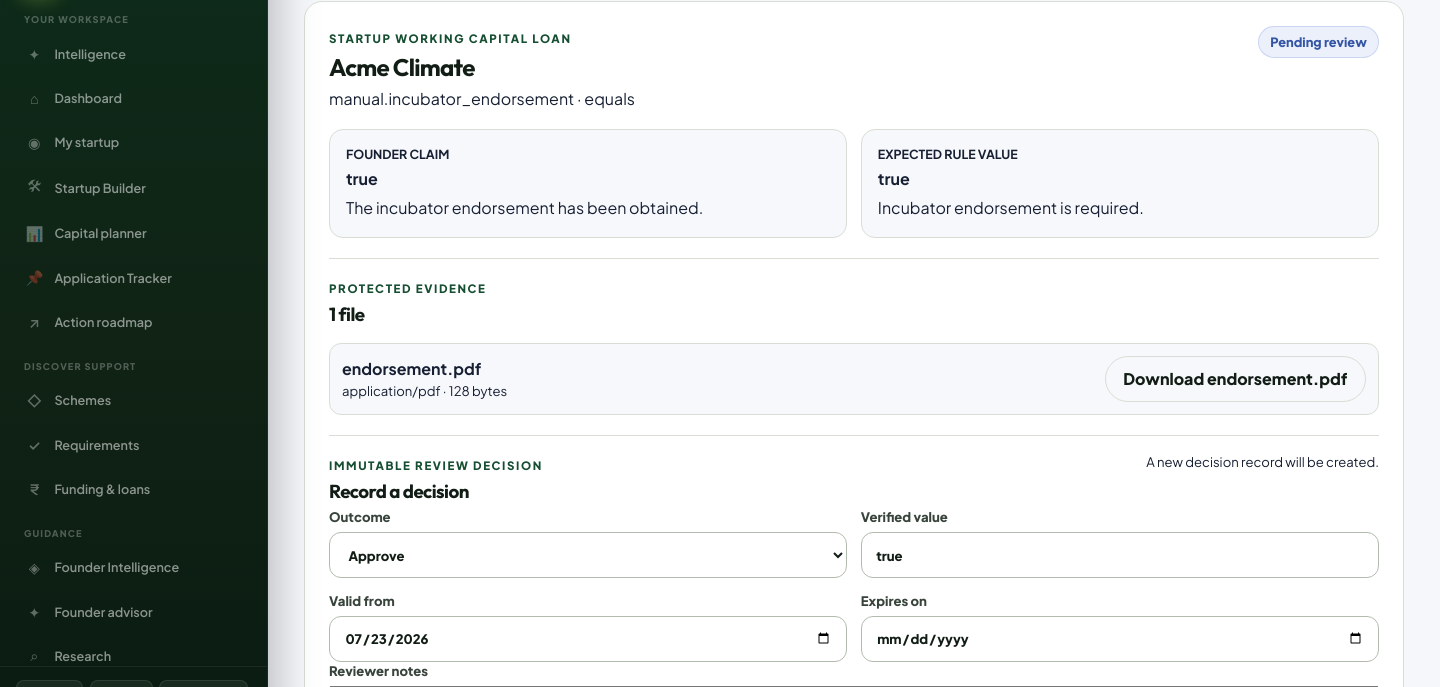
Test: functional user dashboard › downloads protected reviewer evidence and approves a pending submission
(page scrolled)
Click the button "Download endorsement.pdf" at (1235, 379), box [1105,356,1366,402]
(page scrolled)
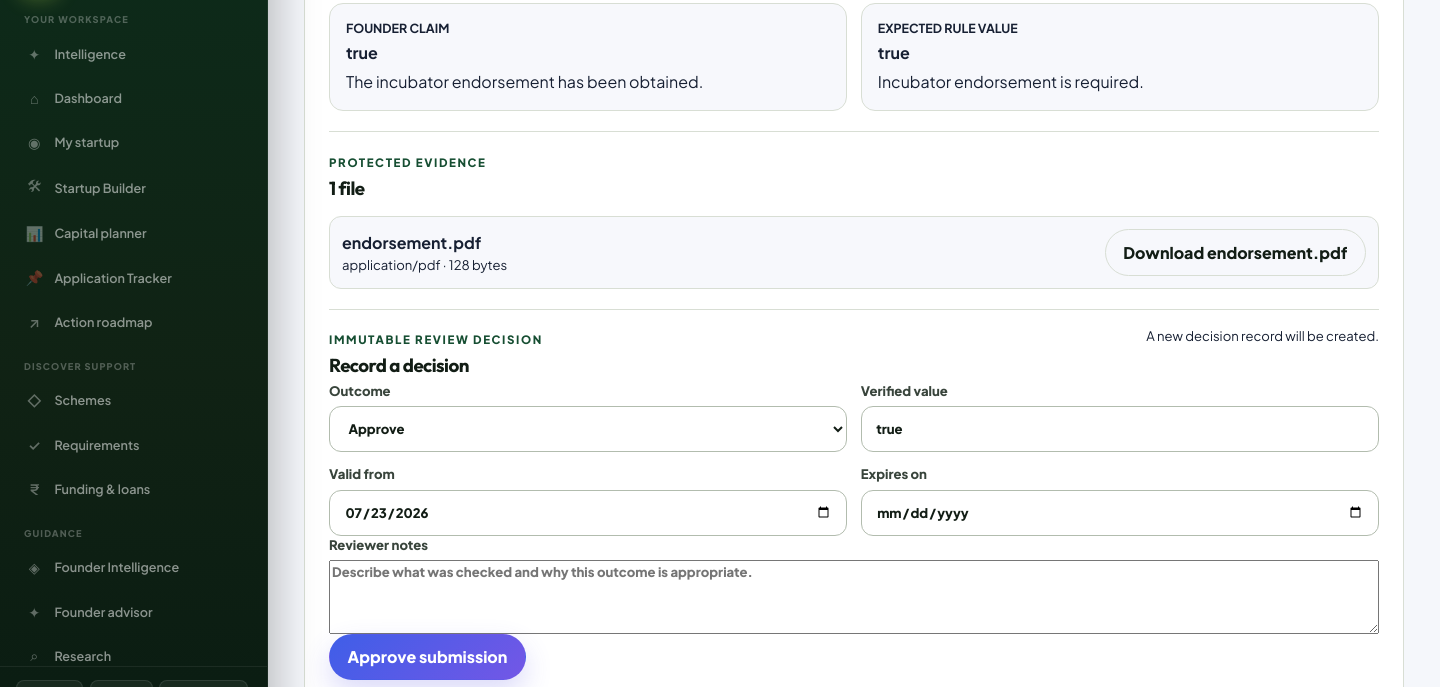
Type "Evidence verified." into the text box labelled "Reviewer notes" at (854, 597), box [329,560,1379,634]
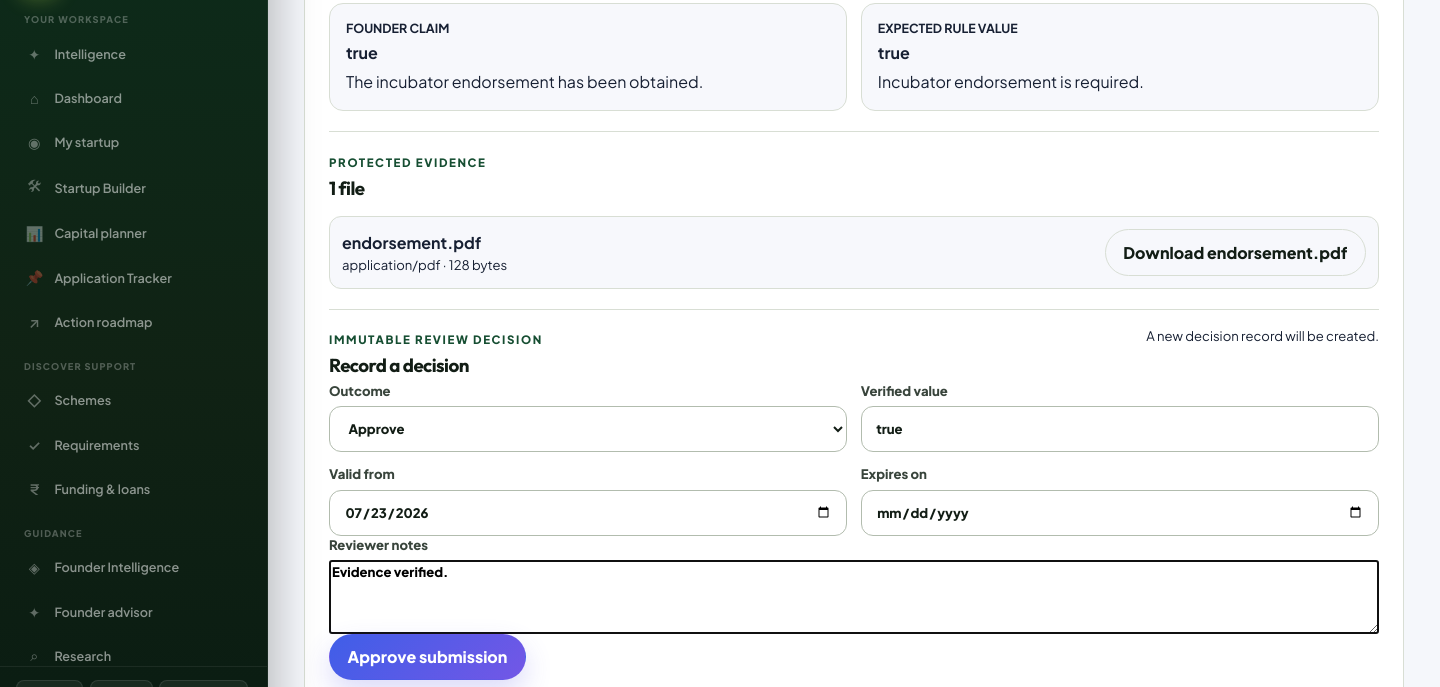
Click the button "Approve submission" at (427, 657), box [329,634,526,680]
(page scrolled)
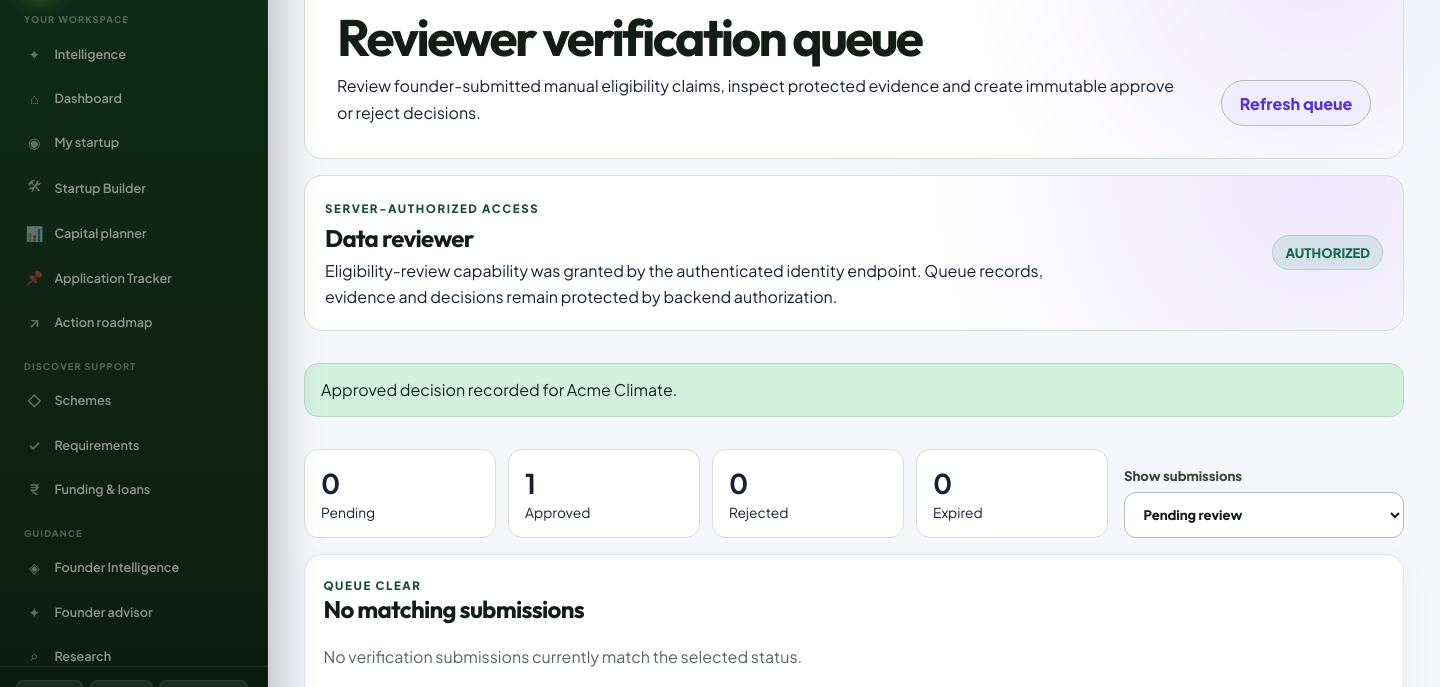
expect the text "Approved decision recorded for Acme Climate." is shown: met, box [304,363,1404,417]
